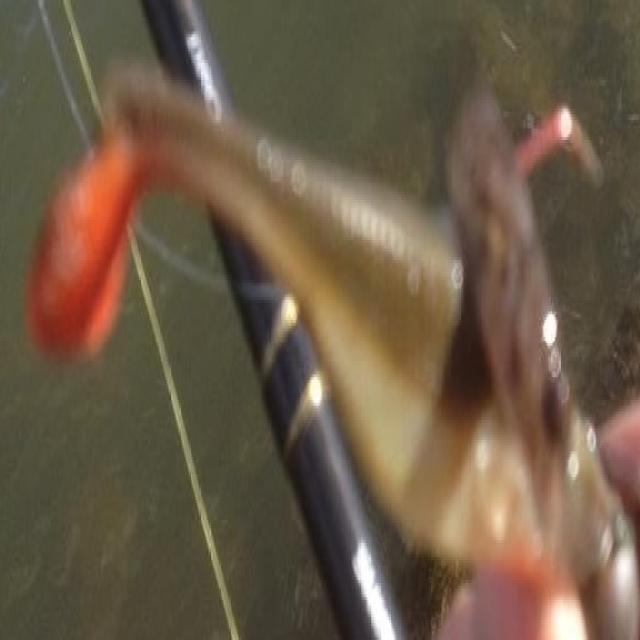Goby: (36, 25, 616, 602)
